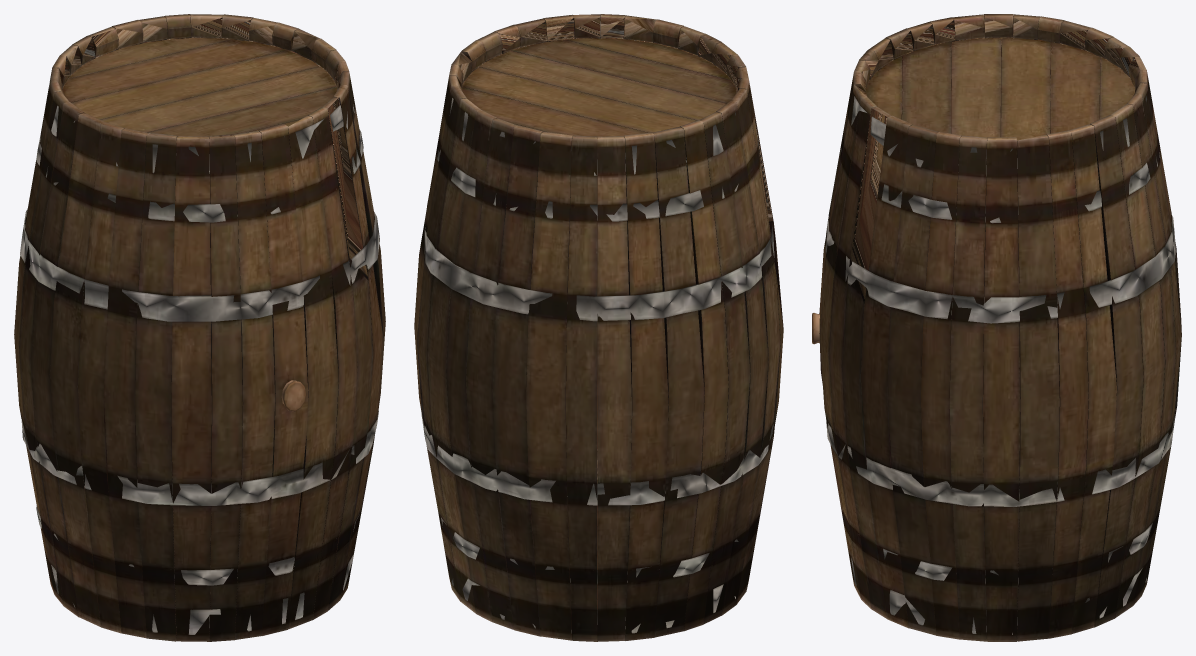
Rendered from wine_barrel_01_lod2.glb.
3 renders of one model, left to right at view 1: azimuth 30°, elevation 25°; view 2: azimuth 150°, elevation 25°; view 3: azimuth 270°, elevation 25°, orthographic.
Parts seen in each view (by area): view 1: wine_barrel_01, wine_barrel_01_Lid, wine_barrel_01_bung; view 2: wine_barrel_01, wine_barrel_01_Lid; view 3: wine_barrel_01, wine_barrel_01_Lid.
Part boxes in pixels (x1,y1,x2,y2): wine_barrel_01: [14, 14, 385, 641]; wine_barrel_01_Lid: [63, 38, 336, 136]; wine_barrel_01_bung: [281, 380, 305, 411]; wine_barrel_01: [414, 14, 783, 641]; wine_barrel_01_Lid: [461, 38, 736, 138]; wine_barrel_01: [819, 14, 1181, 641]; wine_barrel_01_Lid: [866, 38, 1135, 140].
Size of the model in its own units: 0.6 by 0.8985 by 0.6.
Materials: 1 (1 with a texture image).
